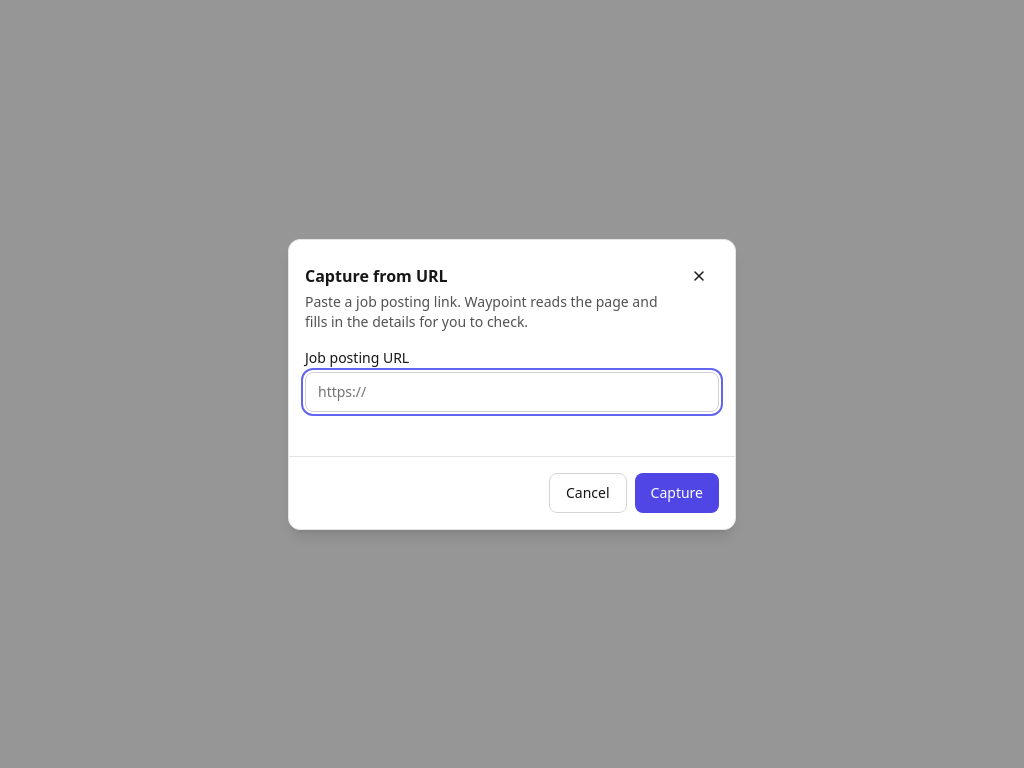
Test case: CaptureDialog › shows Required on a blank submit and sends nothing
The image size is (1024, 768).
Expected: the dialog "Capture from URL" is shown, top-left (288, 238), bottom-right (736, 530)
Click the button "Capture" at (677, 492), box top-left (635, 472), bottom-right (719, 512)
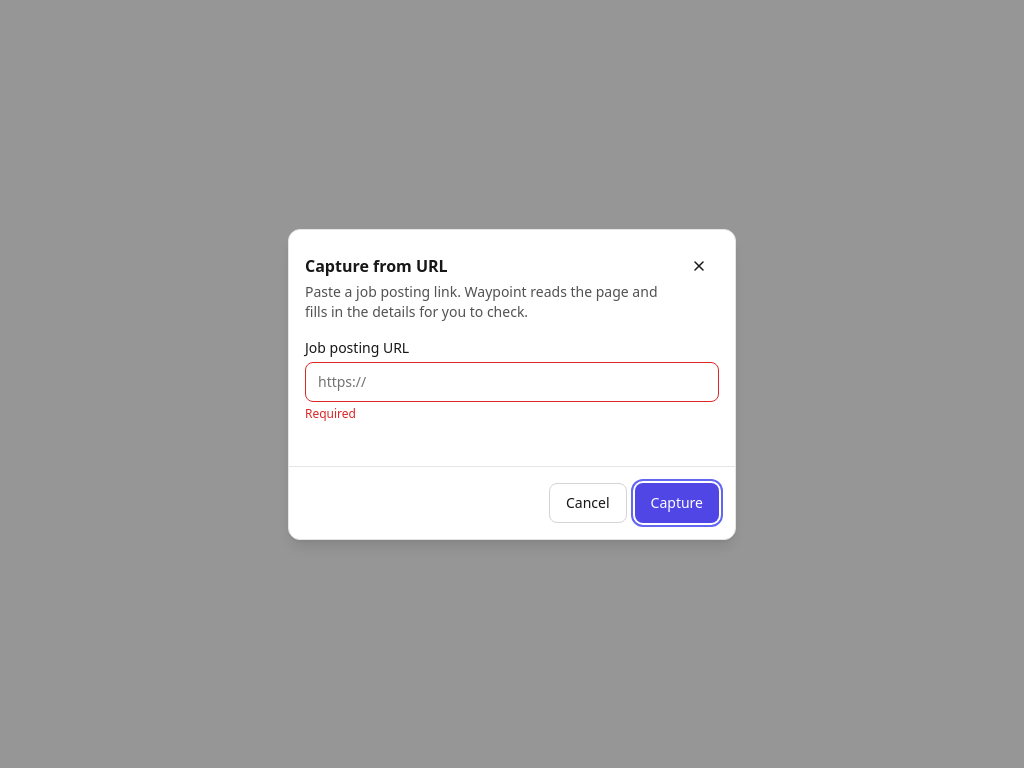
Expected: the text "Required" is shown, top-left (305, 404), bottom-right (356, 422)
